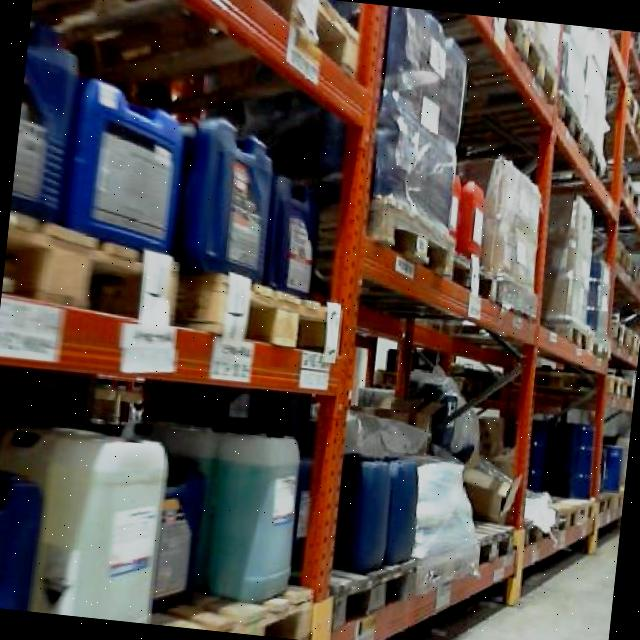ground: (360, 482, 619, 640)
pallet: (291, 2, 640, 640), (151, 569, 318, 639)
